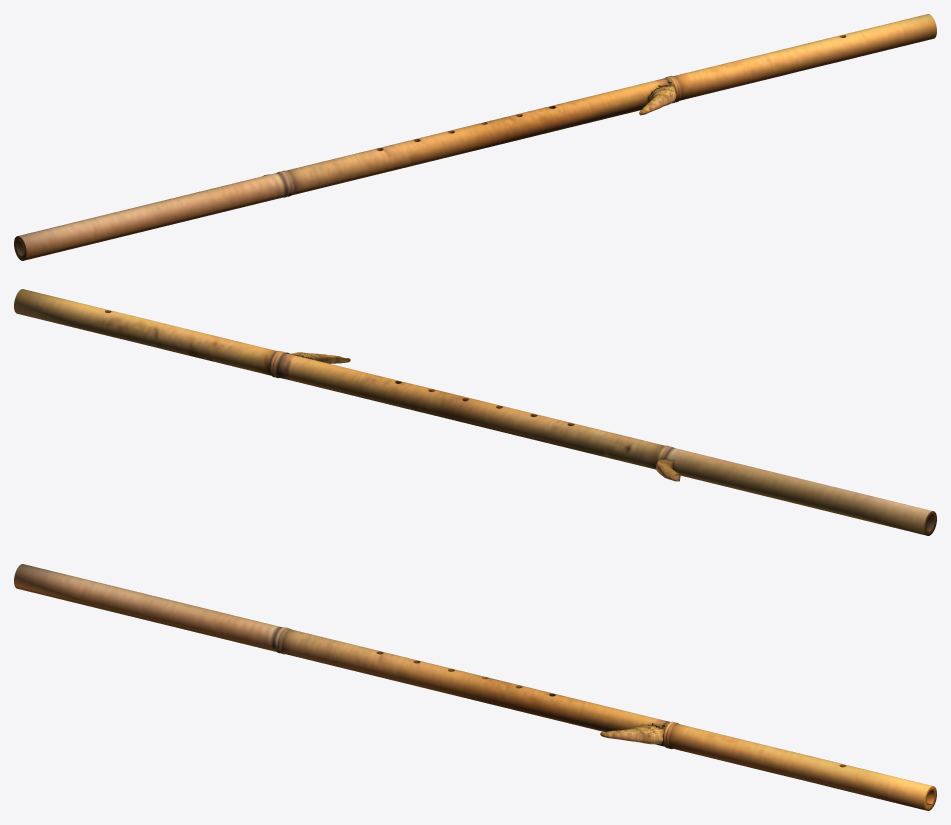
Rendered from Pullaang.glb.
3 views of the same model, one above another, from view 1: azimuth 30°, elevation 25°; view 2: azimuth 150°, elevation 25°; view 3: azimuth 330°, elevation 25° (orthographic).
Parts seen in each view (by area): view 1: bakeuV.001; view 2: bakeuV.001; view 3: bakeuV.001.
Part boxes in pixels (x1=…): bakeuV.001: x1=14, y1=14, x2=936, y2=260; bakeuV.001: x1=14, y1=289, x2=936, y2=535; bakeuV.001: x1=14, y1=564, x2=936, y2=810.
Size of the model in its own units: 0.9584 by 0.0248 by 0.0614.
Materials: 1 (1 with a texture image).
